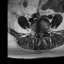CCS_normal: (40, 30, 42, 39)
LFS_severe_stenosis: (44, 29, 46, 36)
LLS_normal: (42, 30, 44, 36)
RFS_severe_stenosis: (35, 29, 38, 35)
RLS_stenosis: (38, 30, 40, 36)
